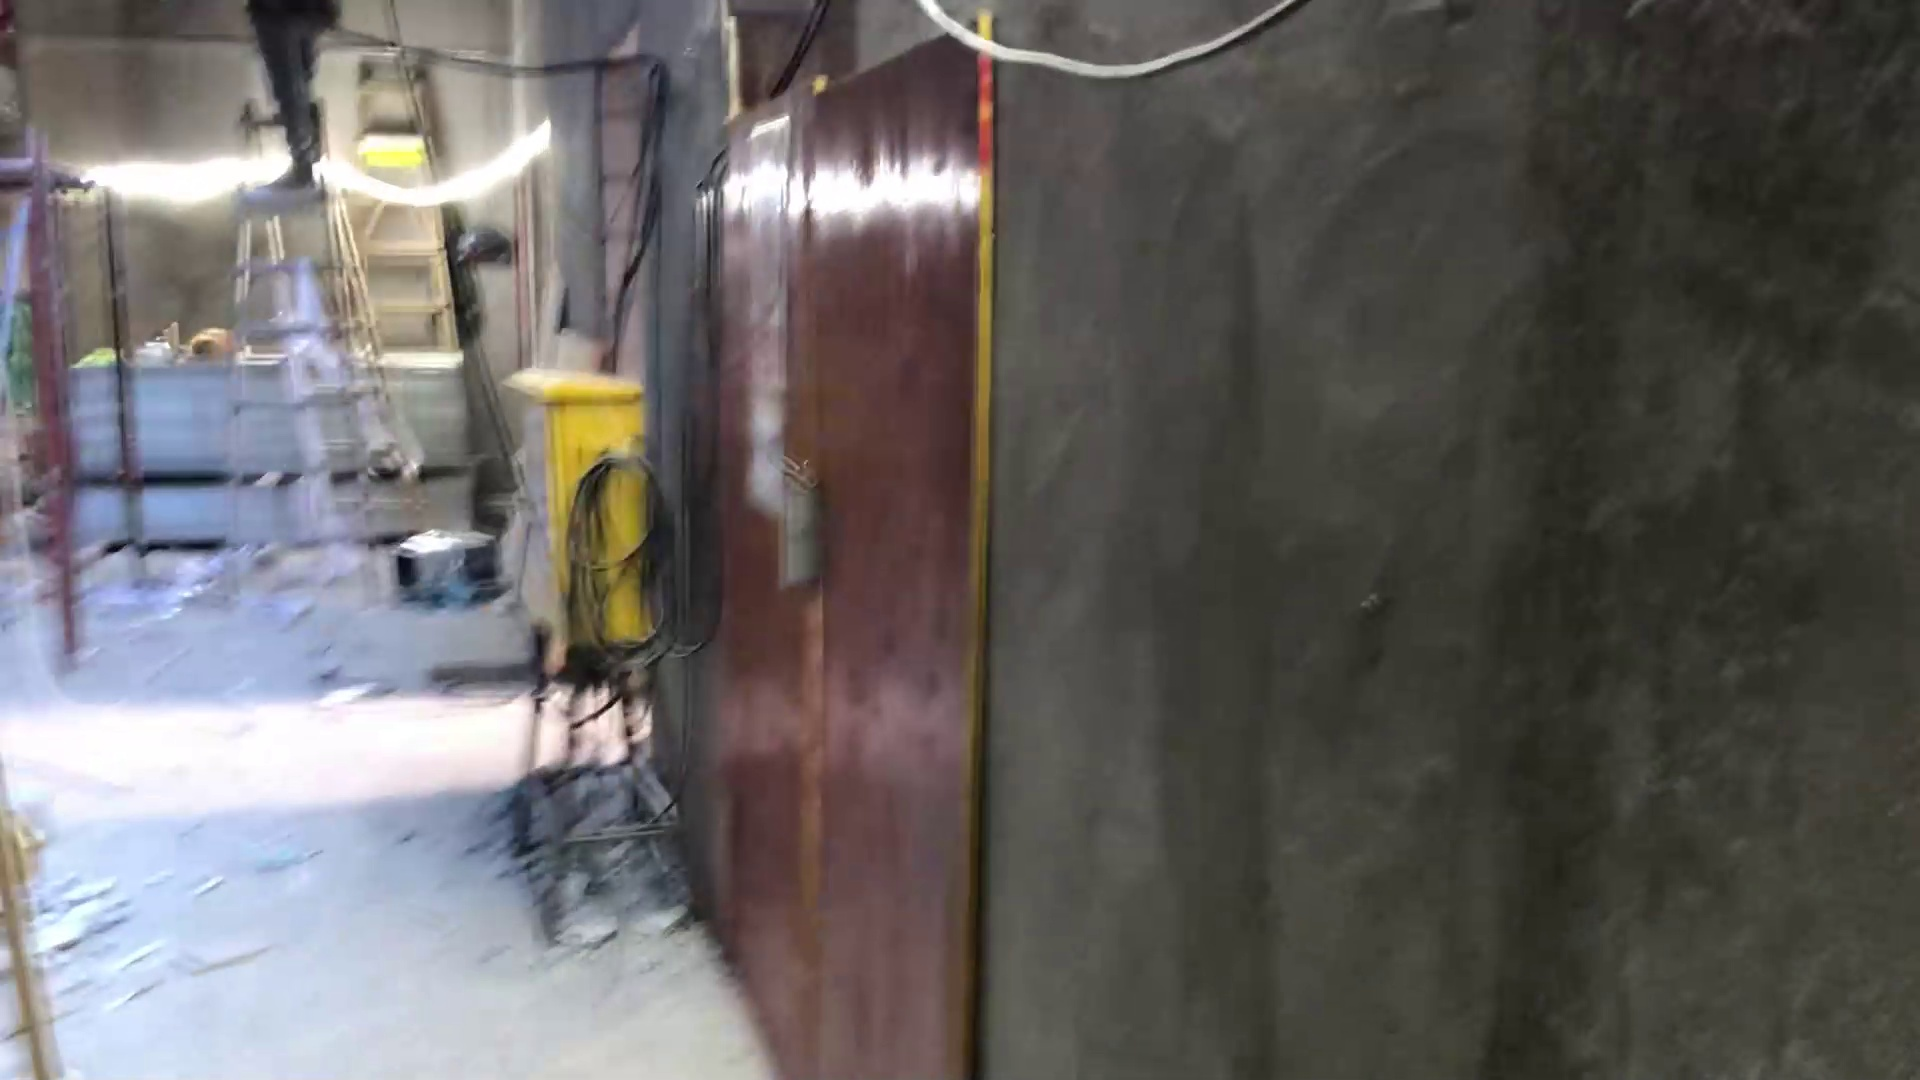ebox: (468, 337, 705, 982)
person: (240, 1, 341, 190)
